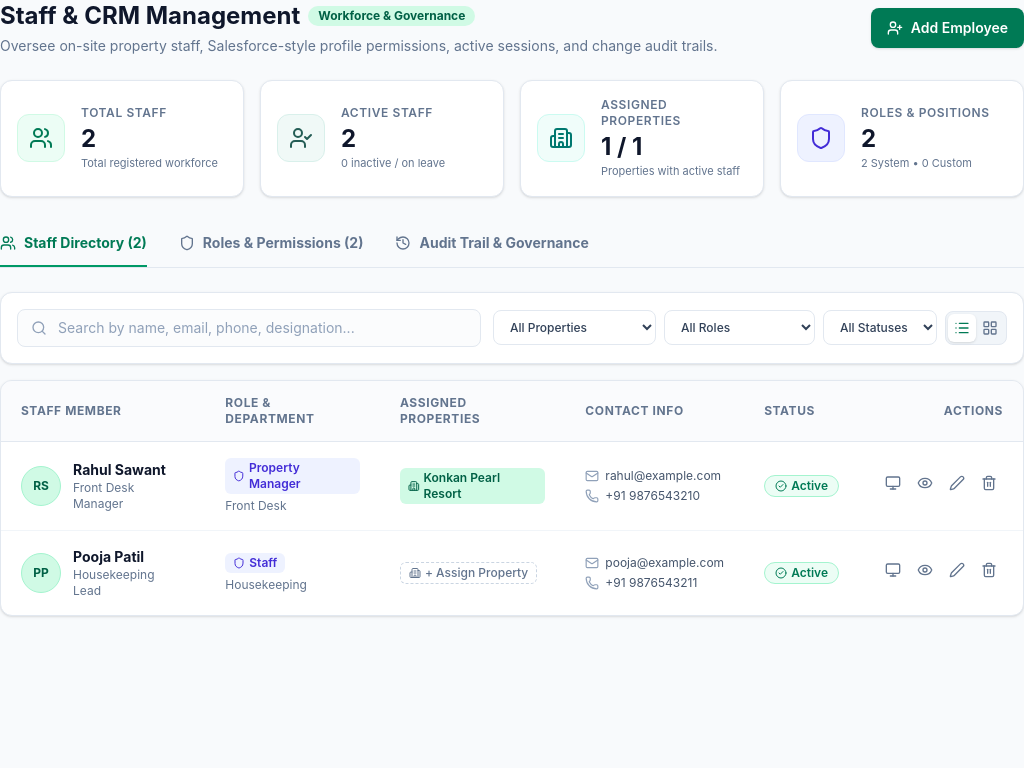
Test case: EmployeesPage Component Suite › opens the Add Employee modal when clicking Add Employee button
Check: the button "Rahul Sawant" is shown, box [73,460,166,480]
Click the button "Add Employee": x=947, y=28 [871,8,1023,48]
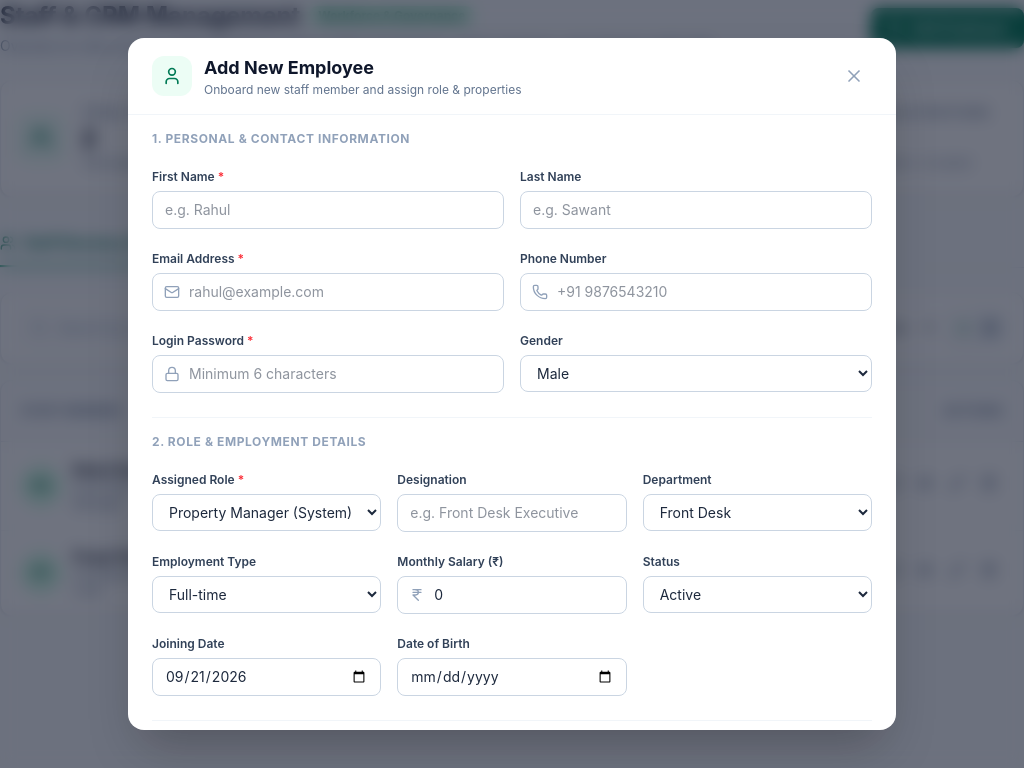
Check: the heading "Add New Employee" is shown, box [204,57,374,78]
Check: the field with placeholder "e.g. Rahul" is shown, box [152,191,504,229]
